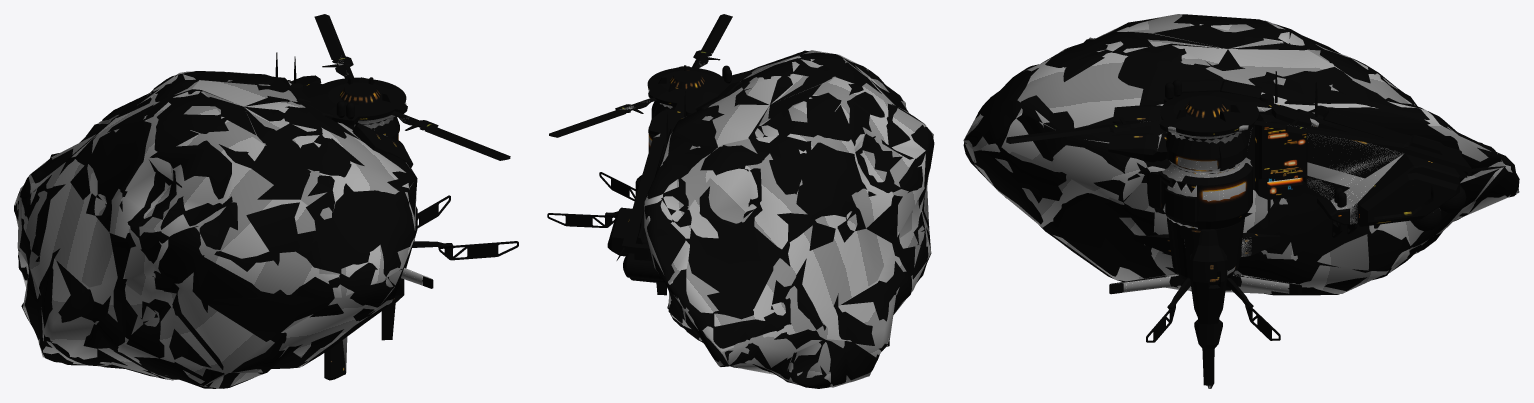
Rendered from tr1_st_aste_02.glb.
3 views of the same model, side by side, from view 1: azimuth 30°, elevation 25°; view 2: azimuth 150°, elevation 25°; view 3: azimuth 270°, elevation 25° (orthographic). The views are drawn at different scales.
Parts seen in each view (by area): view 1: asteroidSet03_01_LOD1, asteroidSet03_01_LOD2, asteroid_station_02_detail_LOD1, asteroid_station_02_base_LOD1; view 2: asteroidSet03_01_LOD1, asteroidSet03_01_LOD2, asteroid_station_02_detail_LOD1, asteroid_station_02_base_LOD1; view 3: asteroidSet03_01_LOD1, asteroidSet03_01_LOD2, asteroid_station_02_base_LOD1, asteroid_station_02_detail_LOD1.
Part boxes in pixels (x1,y1,x2,y2): asteroidSet03_01_LOD1: [14, 71, 417, 388]; asteroidSet03_01_LOD2: [14, 57, 431, 388]; asteroid_station_02_detail_LOD1: [275, 14, 518, 380]; asteroid_station_02_base_LOD1: [287, 75, 407, 144]; asteroidSet03_01_LOD1: [644, 50, 934, 388]; asteroidSet03_01_LOD2: [620, 50, 933, 387]; asteroid_station_02_detail_LOD1: [547, 14, 751, 295]; asteroid_station_02_base_LOD1: [607, 66, 731, 260]; asteroidSet03_01_LOD1: [963, 14, 1519, 295]; asteroidSet03_01_LOD2: [963, 14, 1519, 388]; asteroid_station_02_base_LOD1: [1158, 91, 1471, 229]; asteroid_station_02_detail_LOD1: [1006, 71, 1505, 388].
Size of the model in its own units: 39.52 by 28.31 by 45.81.
4 materials, 4 textured.
